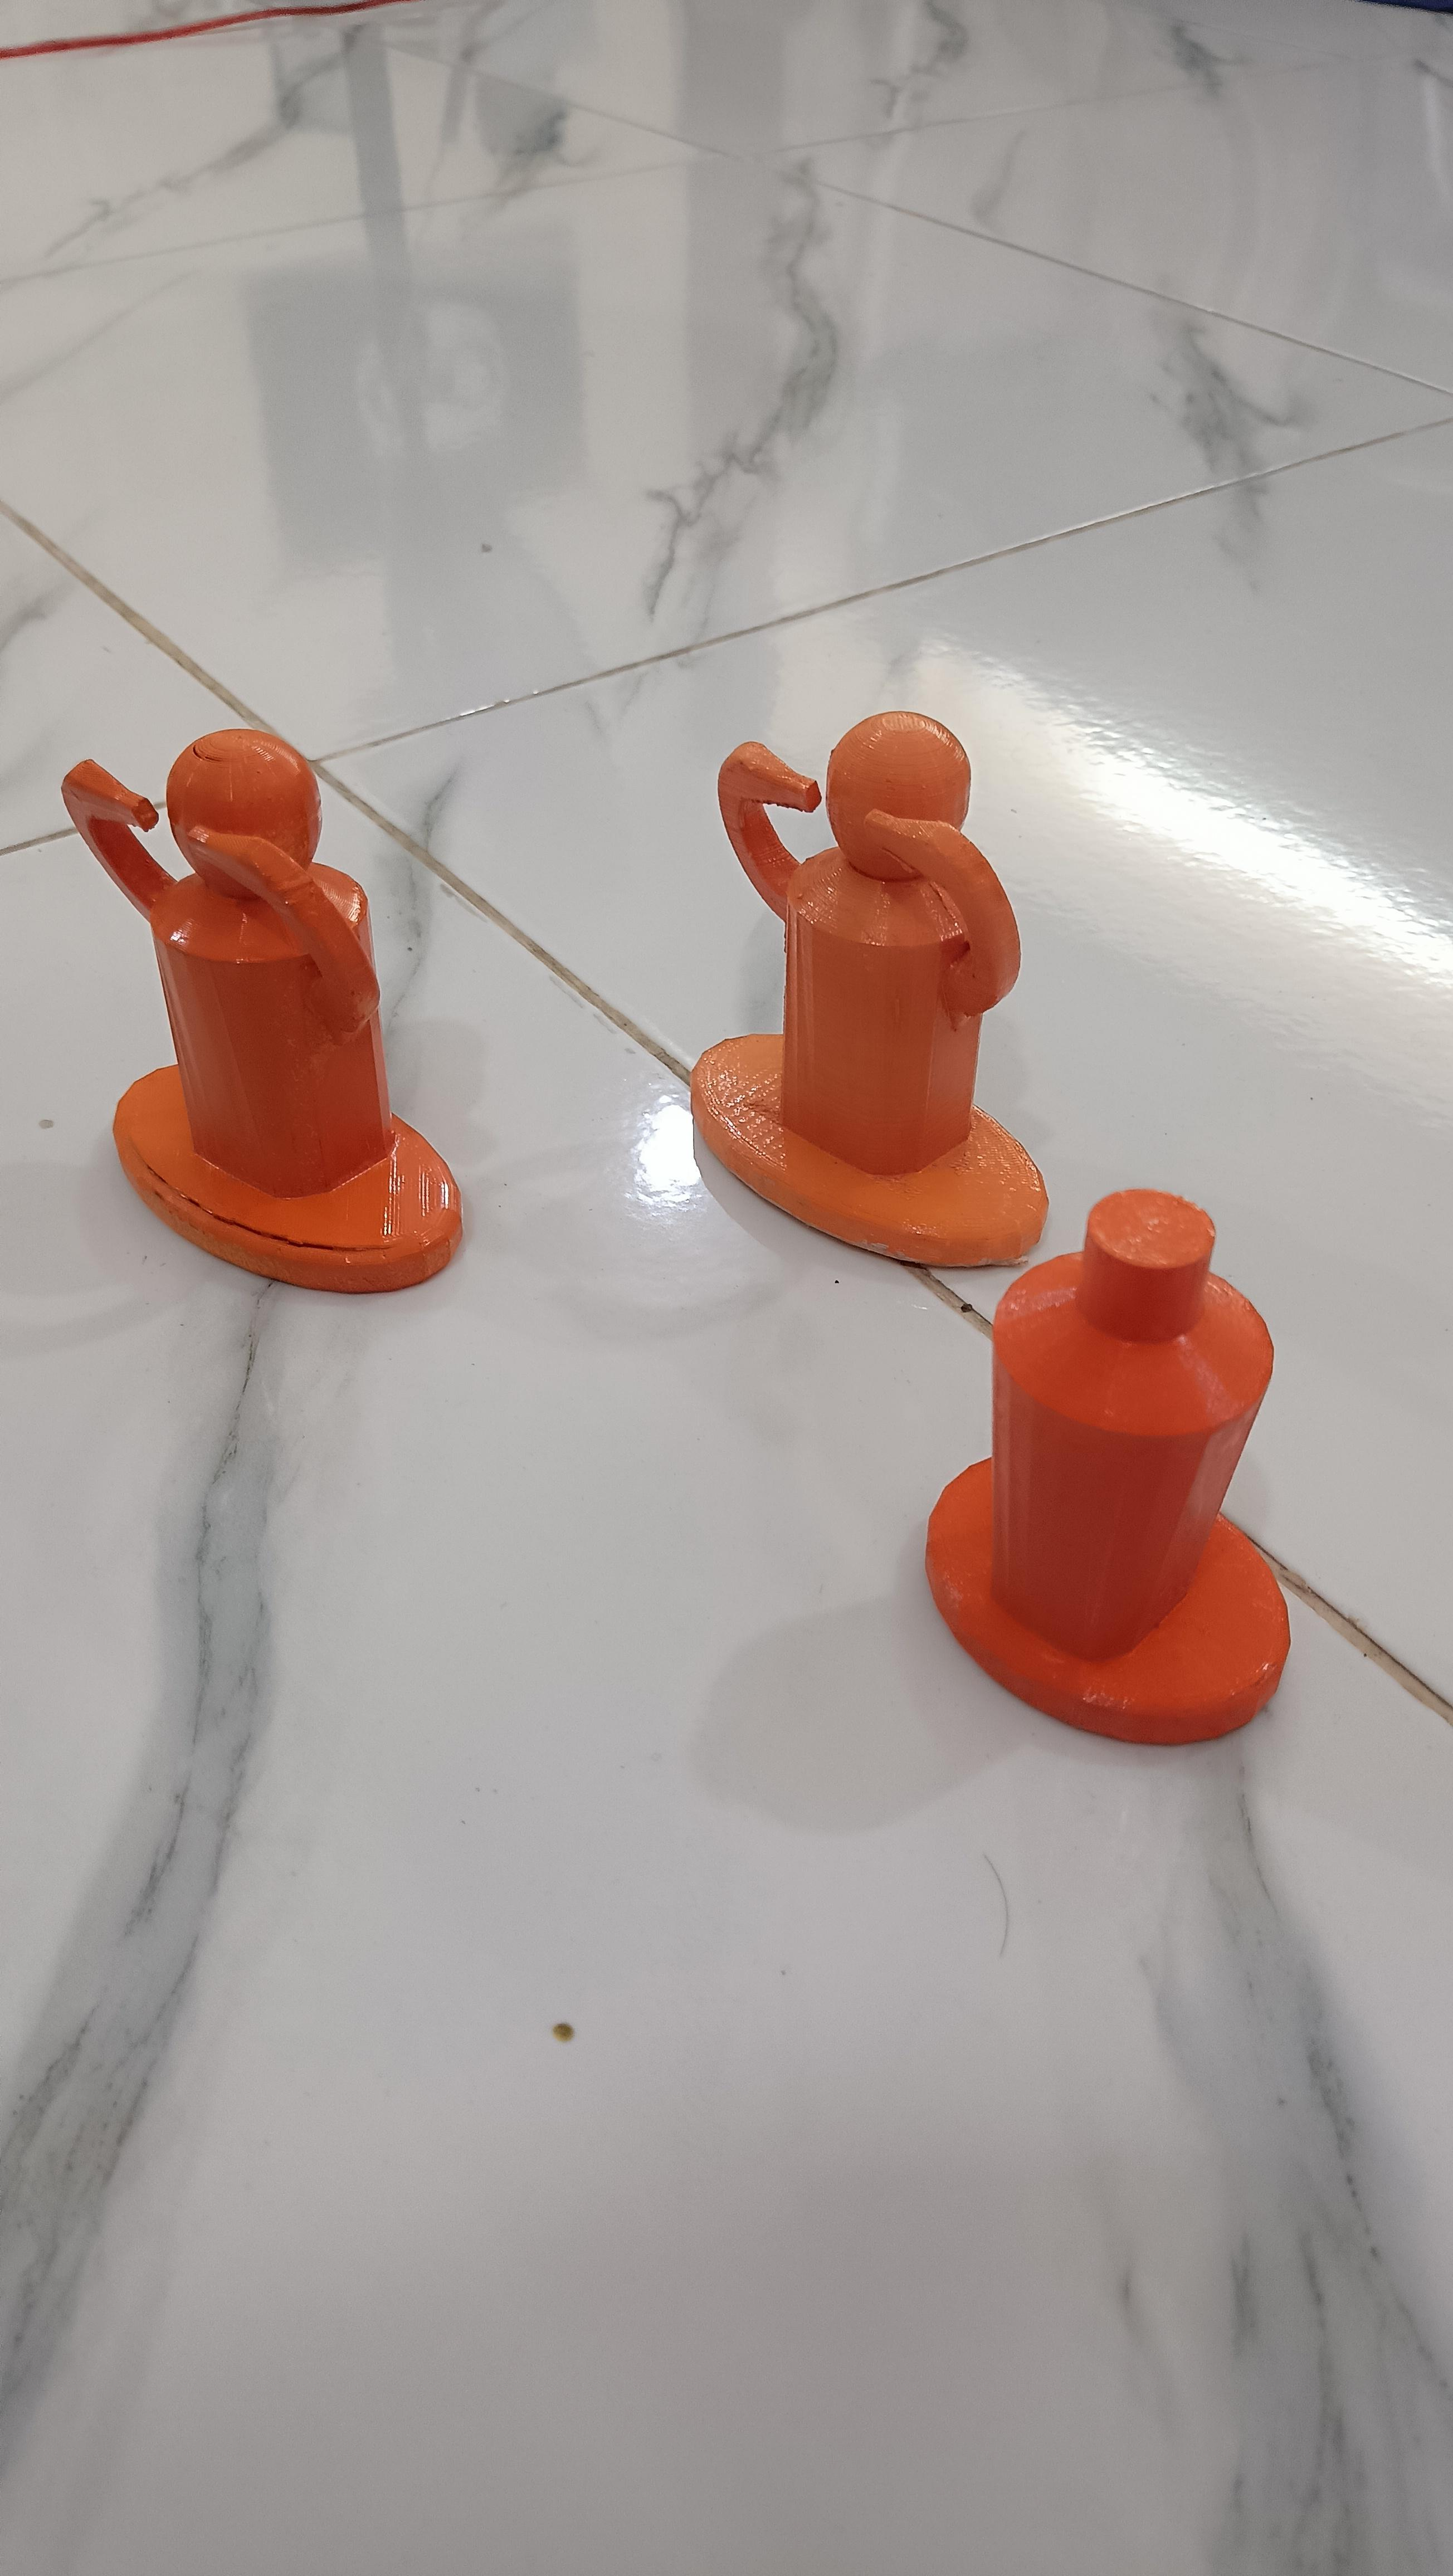dummy: (908, 1145, 1343, 1805)
real_person: (31, 691, 478, 1351), (638, 657, 1056, 1270)
